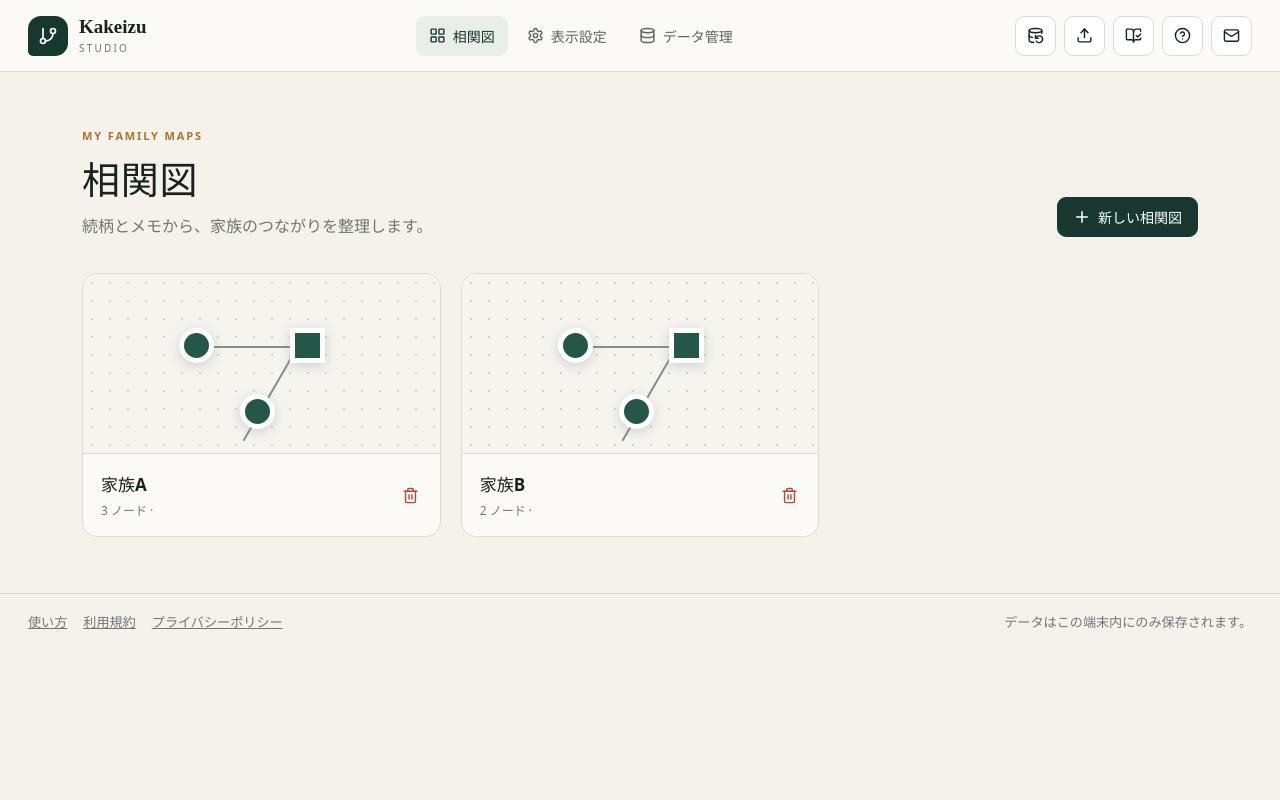
相関図一覧の個別JSON書き出し › 失敗時にエラーを表示し、操作を再開できる
This screenshot has width=1280, height=800.
Click the button named "相関図を選択してバックアップ".
click(1036, 36)  # box [1015,16,1056,56]
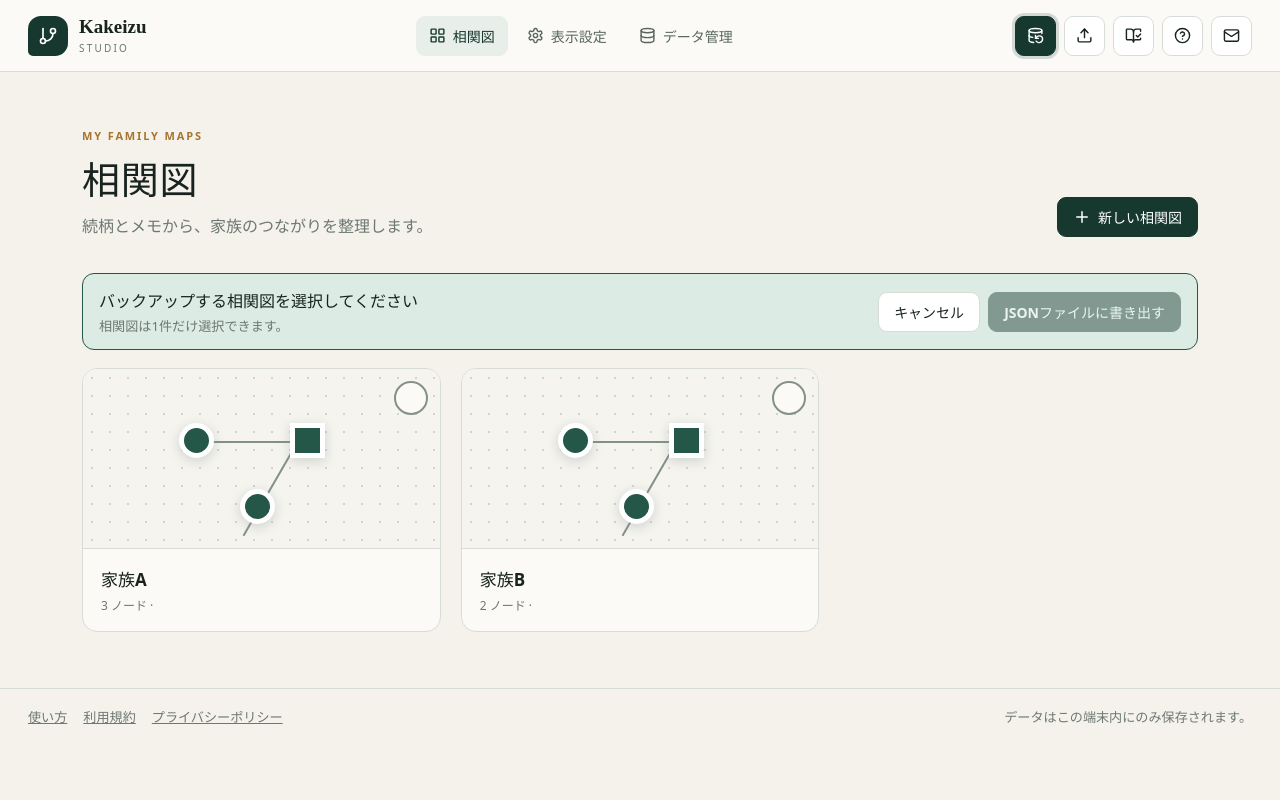
Click the radio button labelled "家族A 3 ノード ·".
click(261, 500)  # box [82,368,441,632]
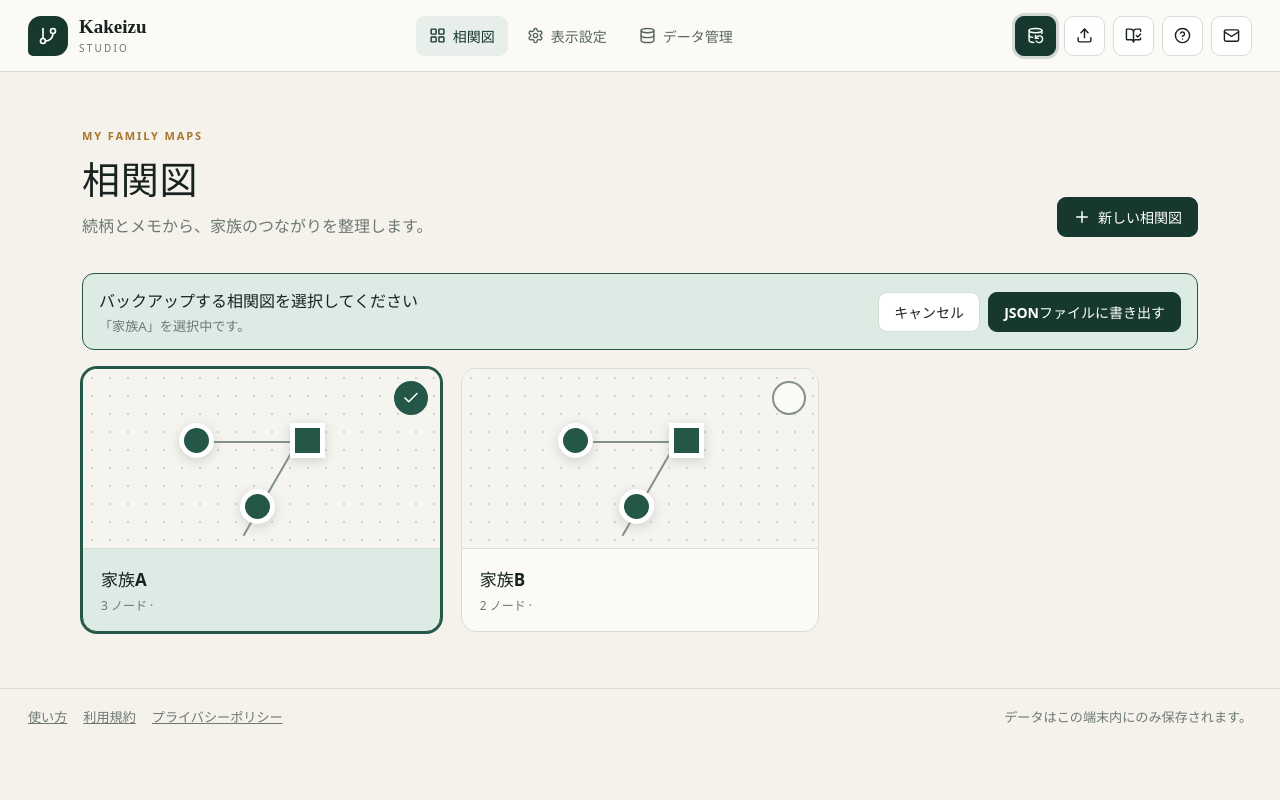
Click the button "JSONファイルに書き出す".
click(1085, 312)  # box [988,292,1181,332]
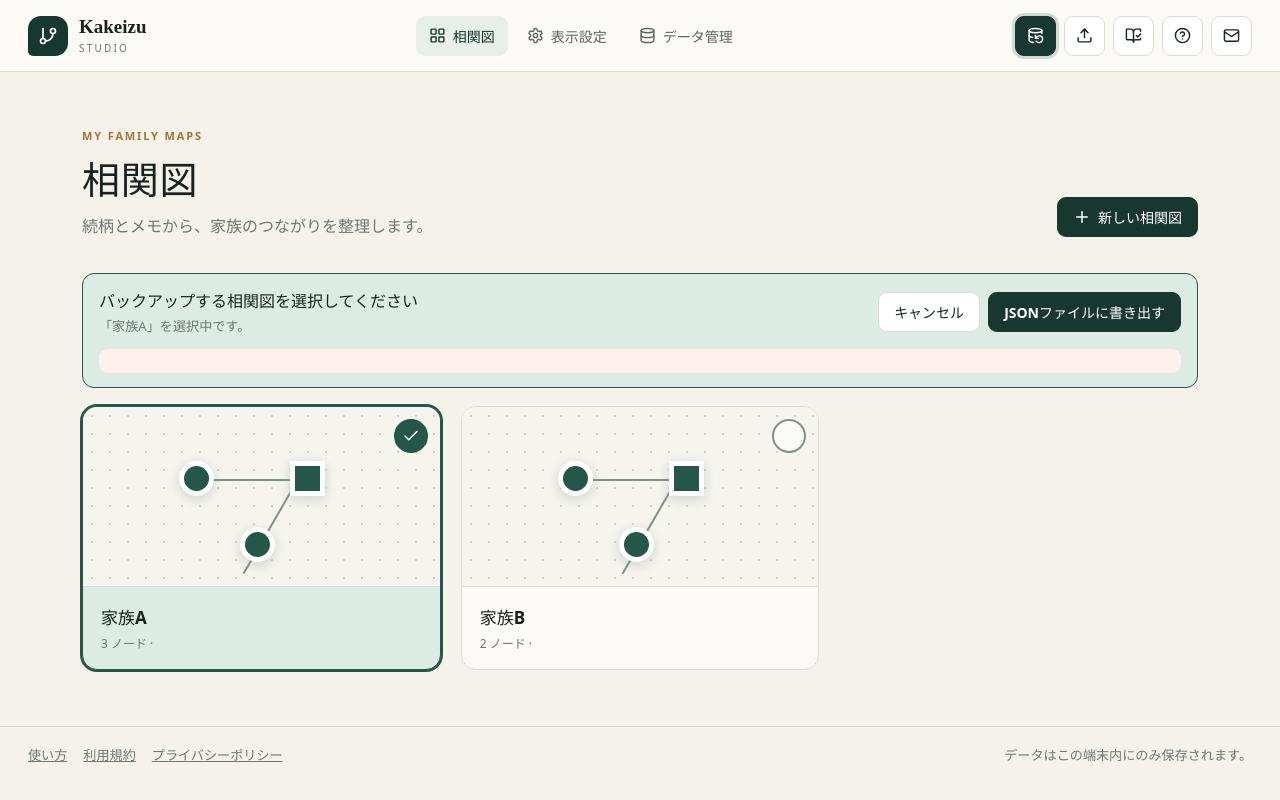
Now the button "JSONファイルに書き出す" is enabled, box [988,292,1181,332]
Now the message is shown, box [99,349,1181,373]
